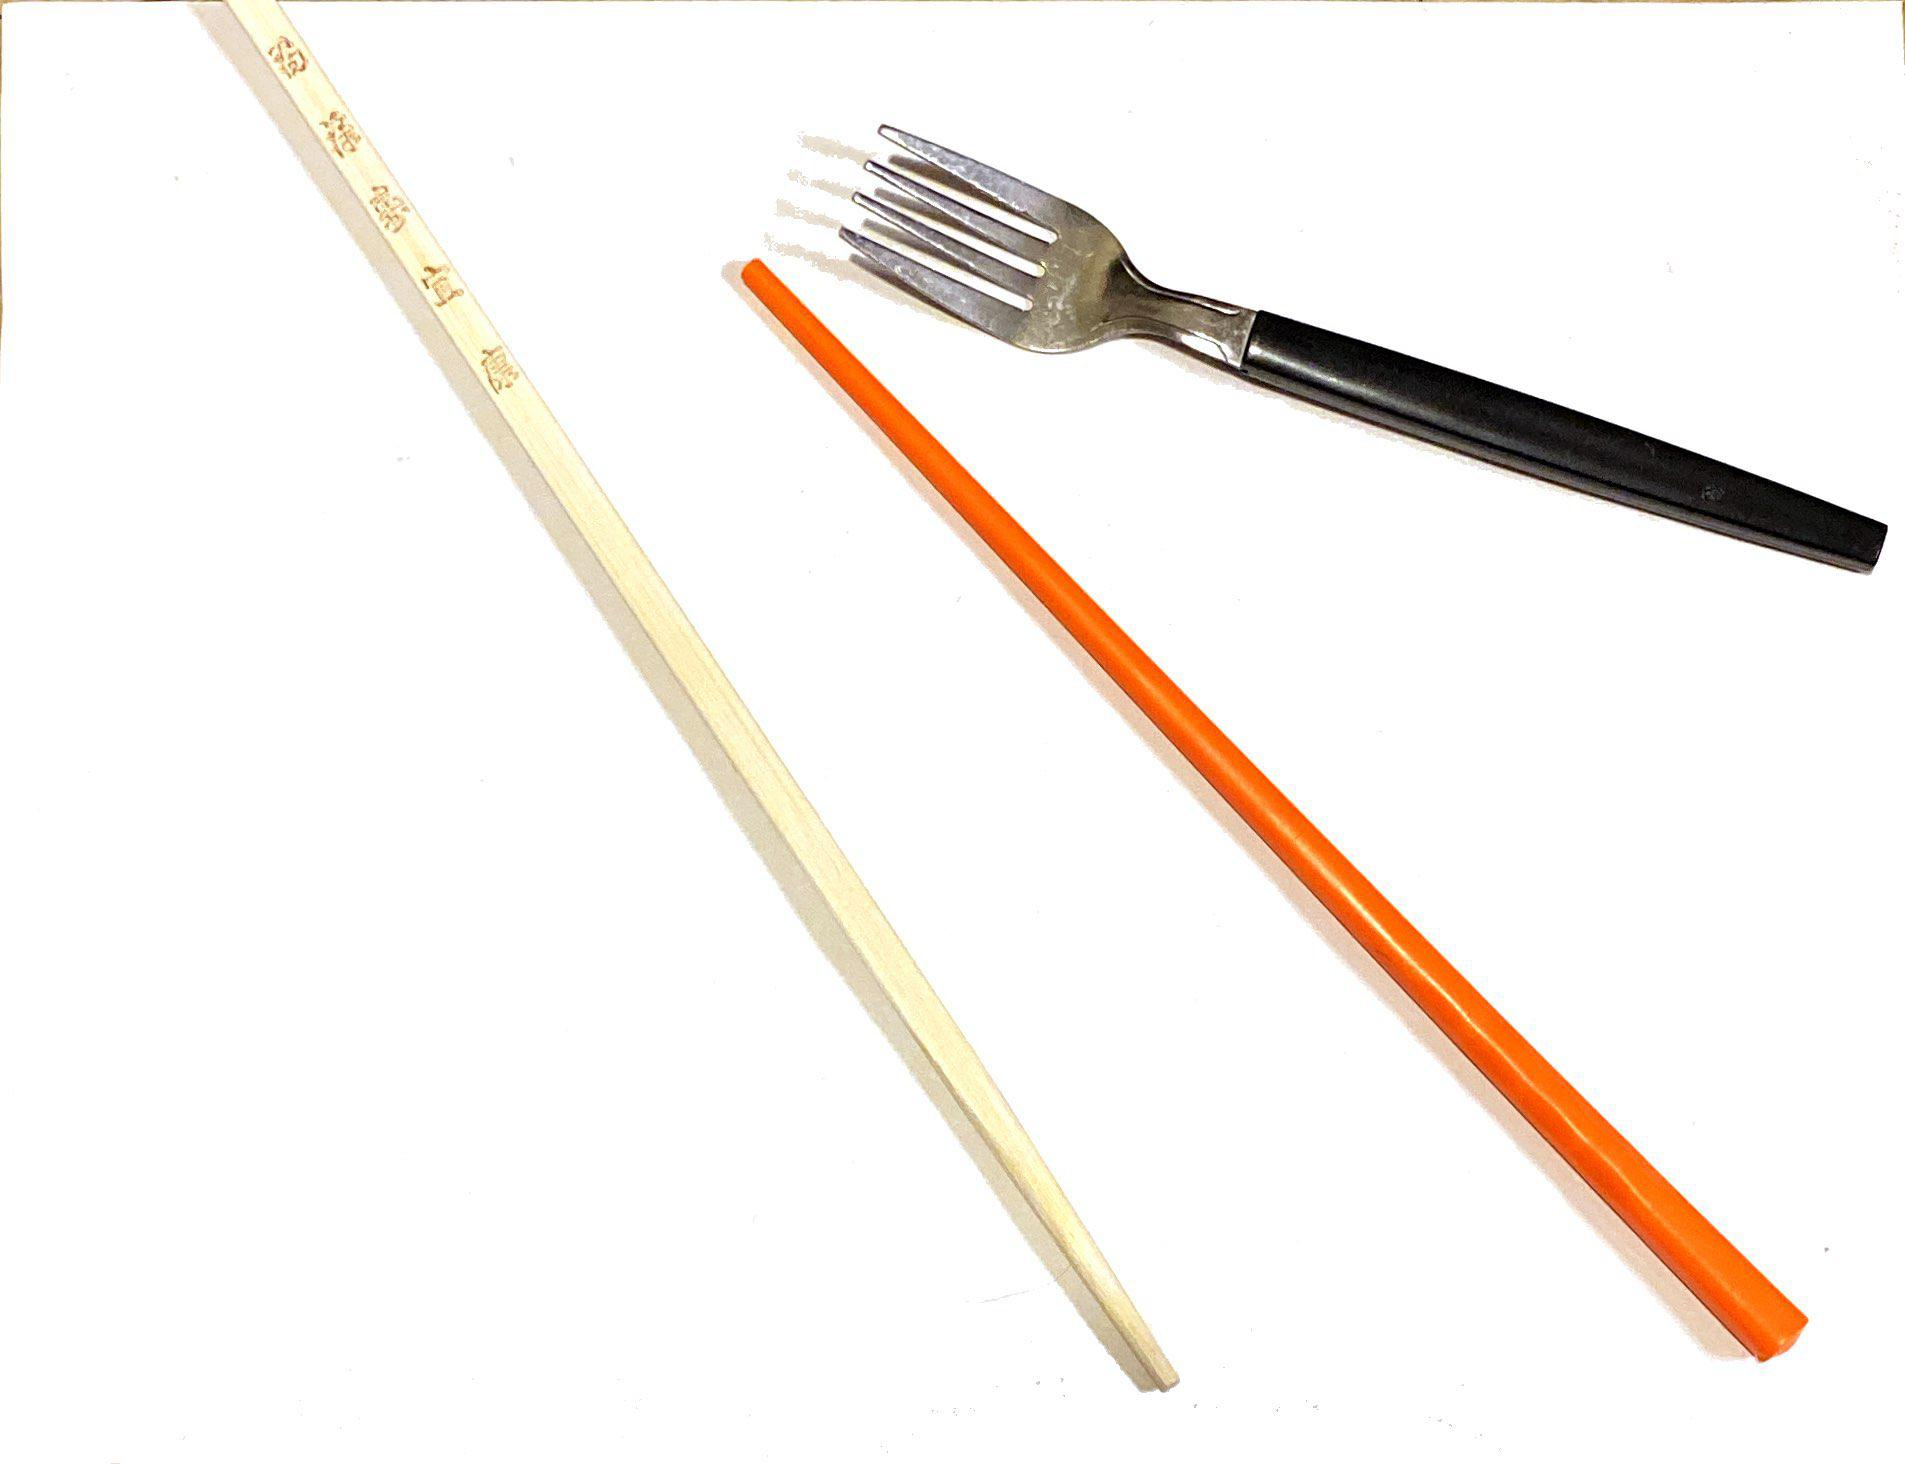Chopstick: (94, 2, 1185, 1401), (666, 248, 1833, 1413)
Fork: (816, 91, 1905, 598)
